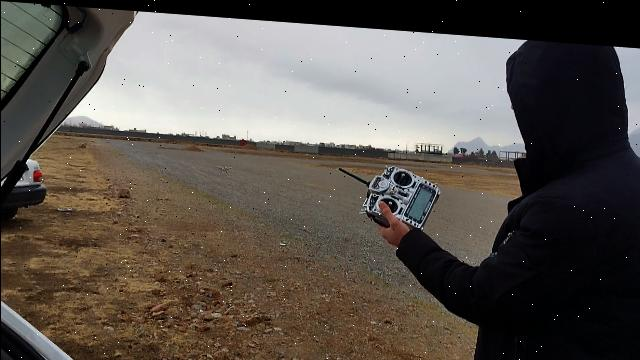drone: (212, 159, 232, 173)
